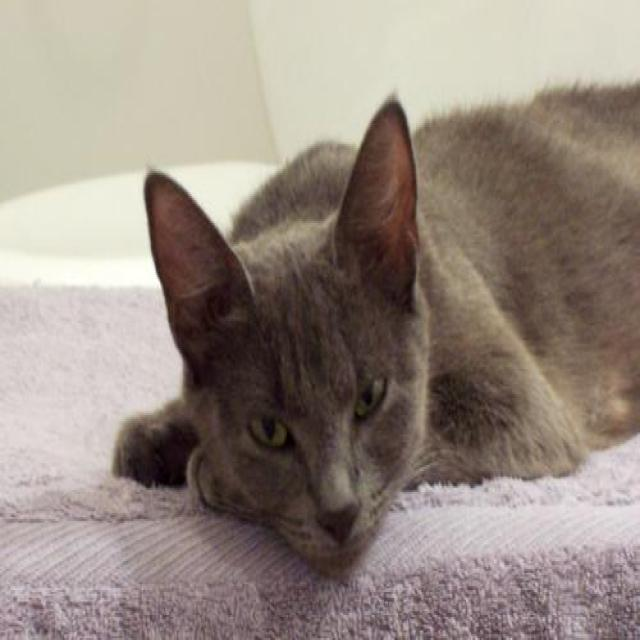Cats: (110, 71, 639, 581)
